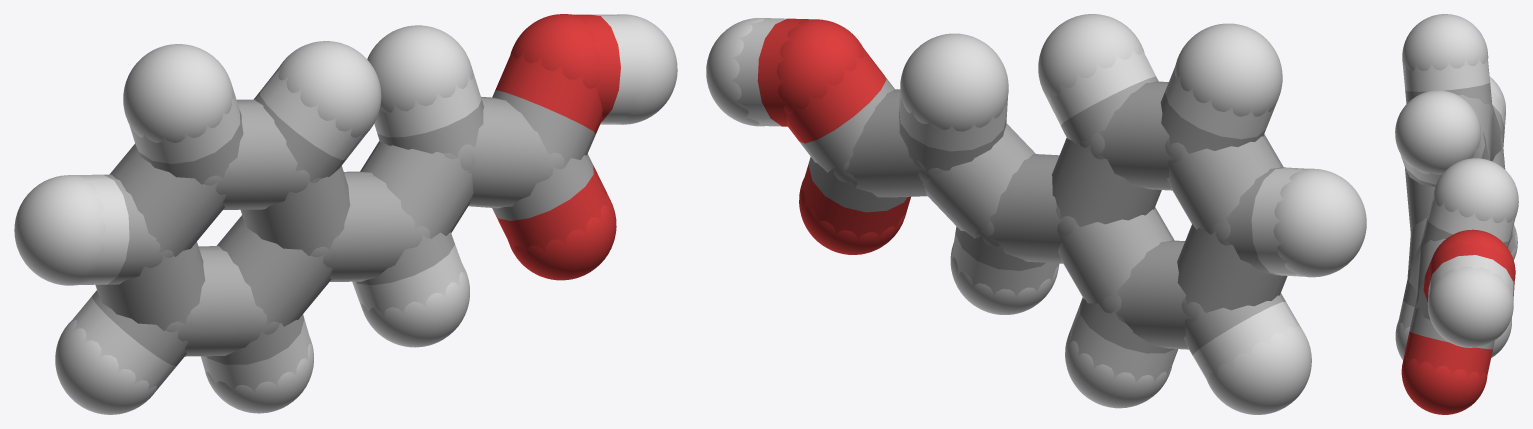
File: 444539-sticks-color-print_NIH3D.glb
3 renders of one model, left to right at view 1: azimuth 30°, elevation 25°; view 2: azimuth 150°, elevation 25°; view 3: azimuth 270°, elevation 25°, orthographic. The views are drawn at different scales.
Parts seen in each view (by area): view 1: bonds, atoms; view 2: bonds, atoms; view 3: atoms, bonds.
Boxes of the visible parts, x1,y1,x2,y2 form: bonds: (68,14,650,394); atoms: (14,14,677,414); bonds: (730,18,1308,385); atoms: (706,14,1366,414); atoms: (1395,14,1518,414); bonds: (1397,54,1516,380).
Bounding box in the file's own units: 10.9 × 6.28 × 2.3.
